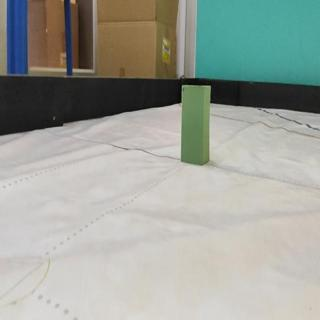greenbox: (180, 83, 210, 166)
